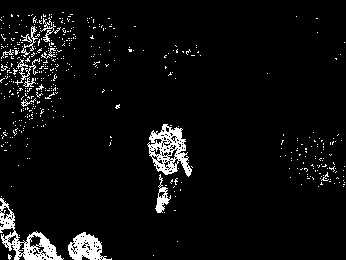person: (146, 123, 194, 214)
